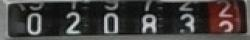digits: (64, 11, 80, 35), (25, 12, 42, 34), (140, 13, 157, 33), (102, 13, 118, 33), (179, 12, 194, 32), (217, 0, 233, 17)
